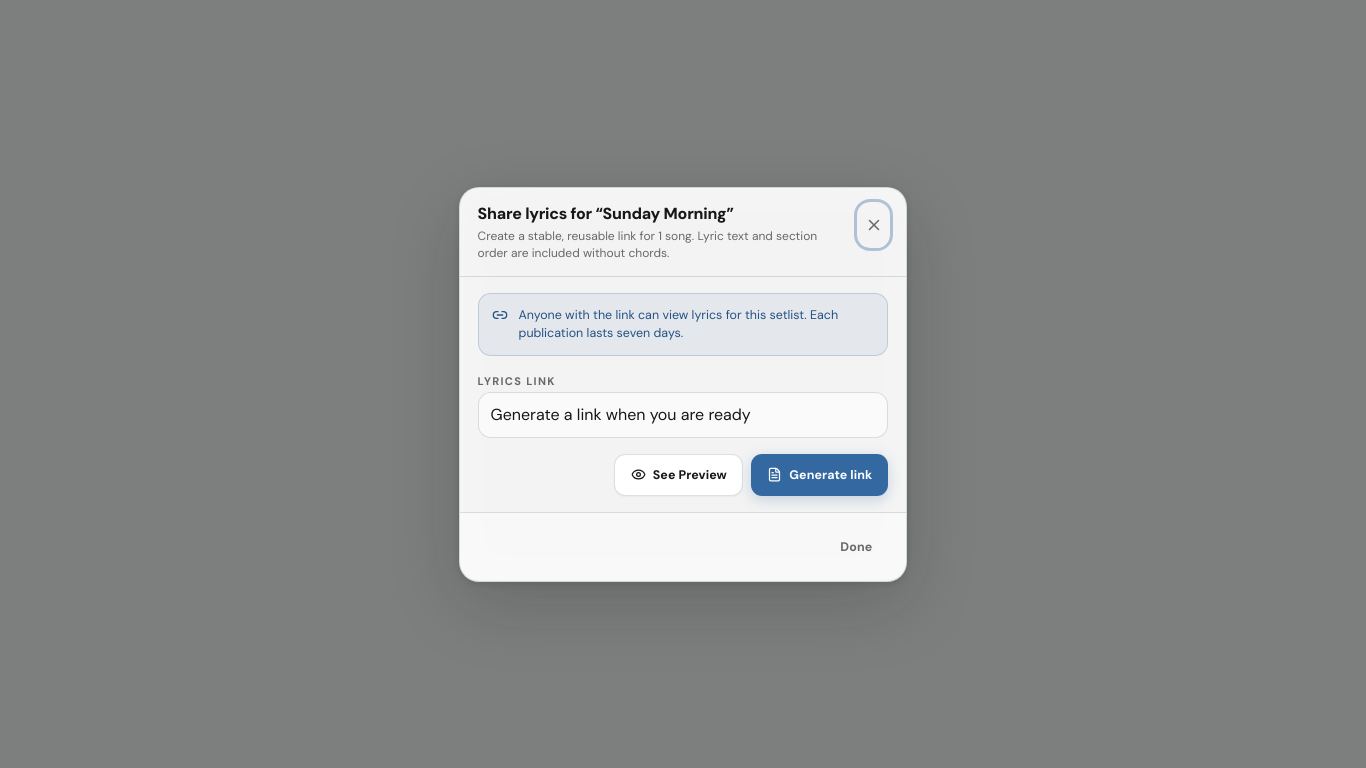
it: ShareLyricsModal › publishes and shows stable link, expiry, Copy link, and Update lyrics after generation
Step 1. Click the button "Generate link" → (820, 474), box [751,453,888,496]
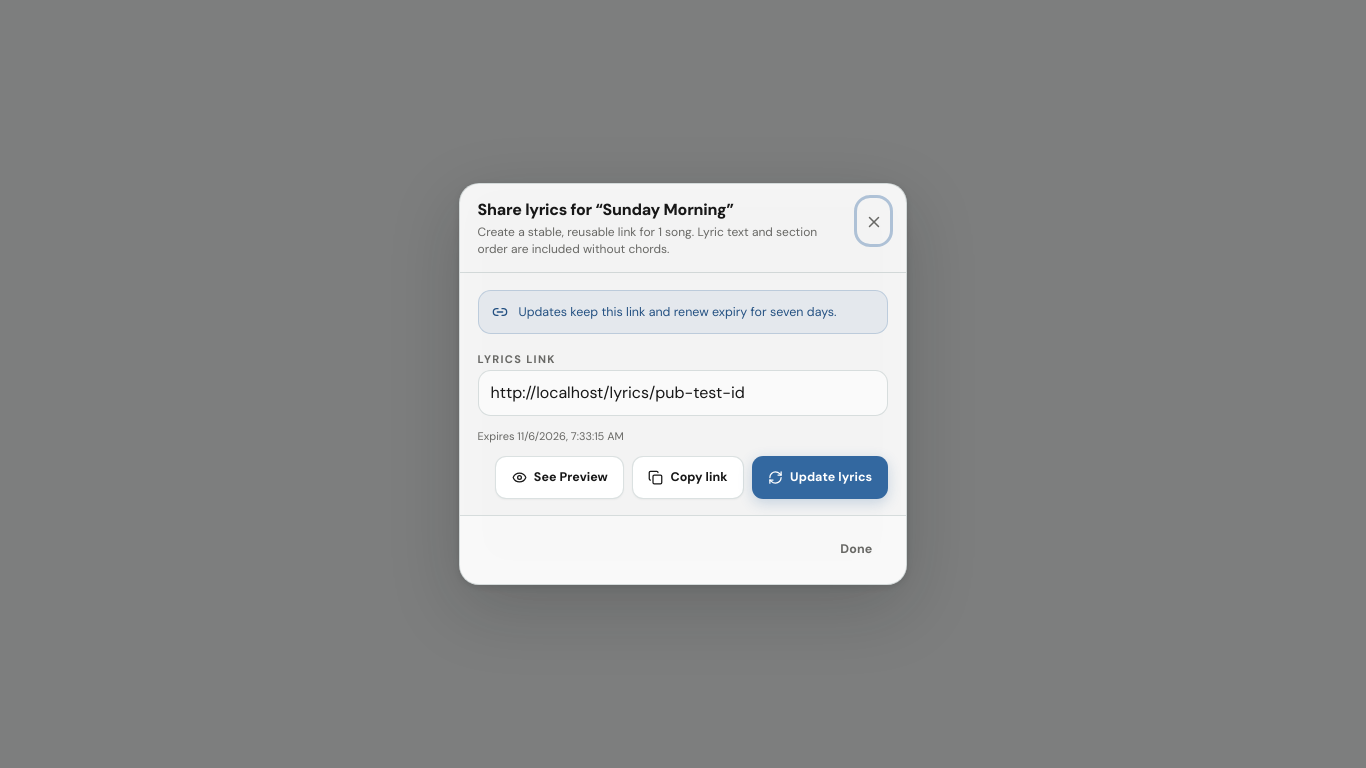
expect the button "Copy link" is shown: met, box [632,456,744,499]
expect the button "Update lyrics" is shown: met, box [752,456,888,499]
expect the field holds "http://localhost/lyrics/pub-test-id": met, box [478,370,888,416]
